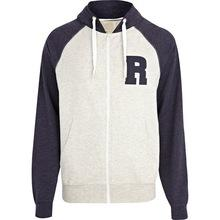C_hoodie: (28, 3, 194, 218)
